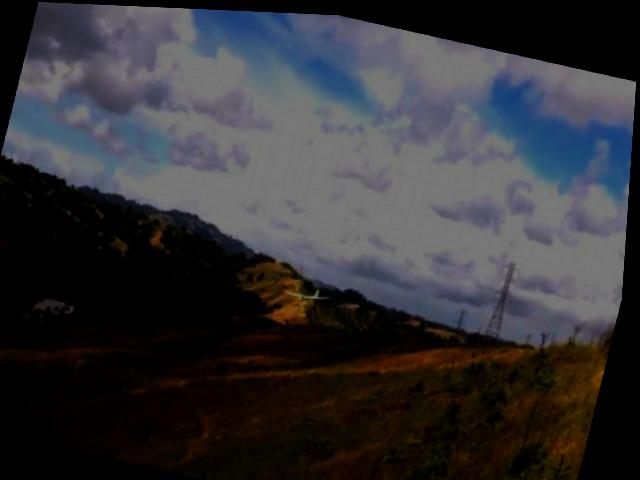iha: (285, 278, 337, 304)
